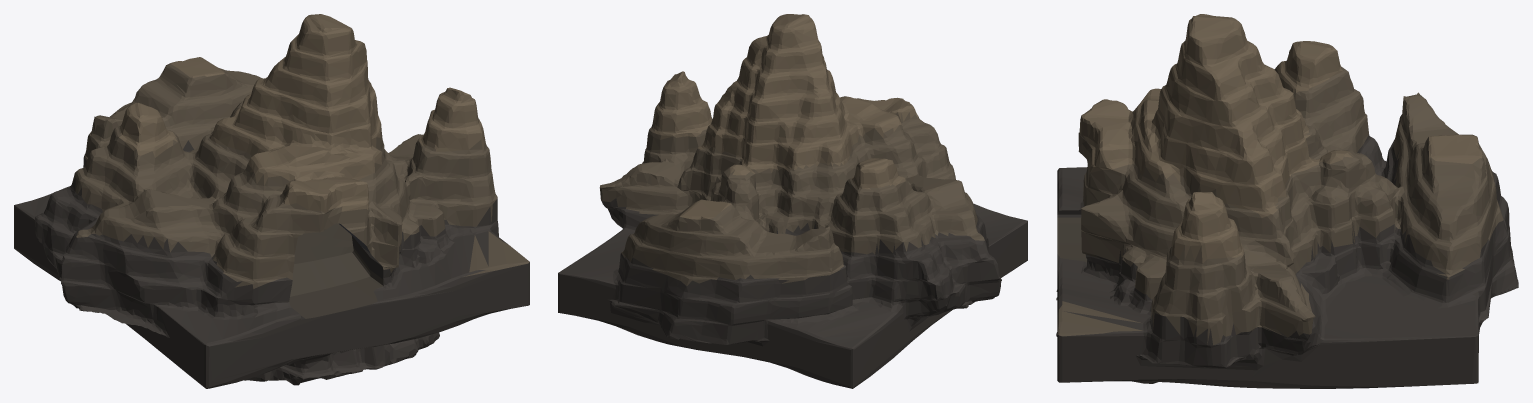
The model's file is etape_4_soustrait.glb.
3 views of the same model, side by side, from view 1: azimuth 30°, elevation 25°; view 2: azimuth 150°, elevation 25°; view 3: azimuth 270°, elevation 25° (orthographic). The views are drawn at different scales.
Visible parts, largest first — view 1: SM_WaterfallCave; view 2: SM_WaterfallCave; view 3: SM_WaterfallCave.
Part boxes in pixels (bbox=[...]): SM_WaterfallCave: bbox=[14, 14, 529, 388]; SM_WaterfallCave: bbox=[558, 14, 1027, 388]; SM_WaterfallCave: bbox=[1056, 14, 1518, 388].
Size of the model in its own units: 16.95 by 11.74 by 15.03.
